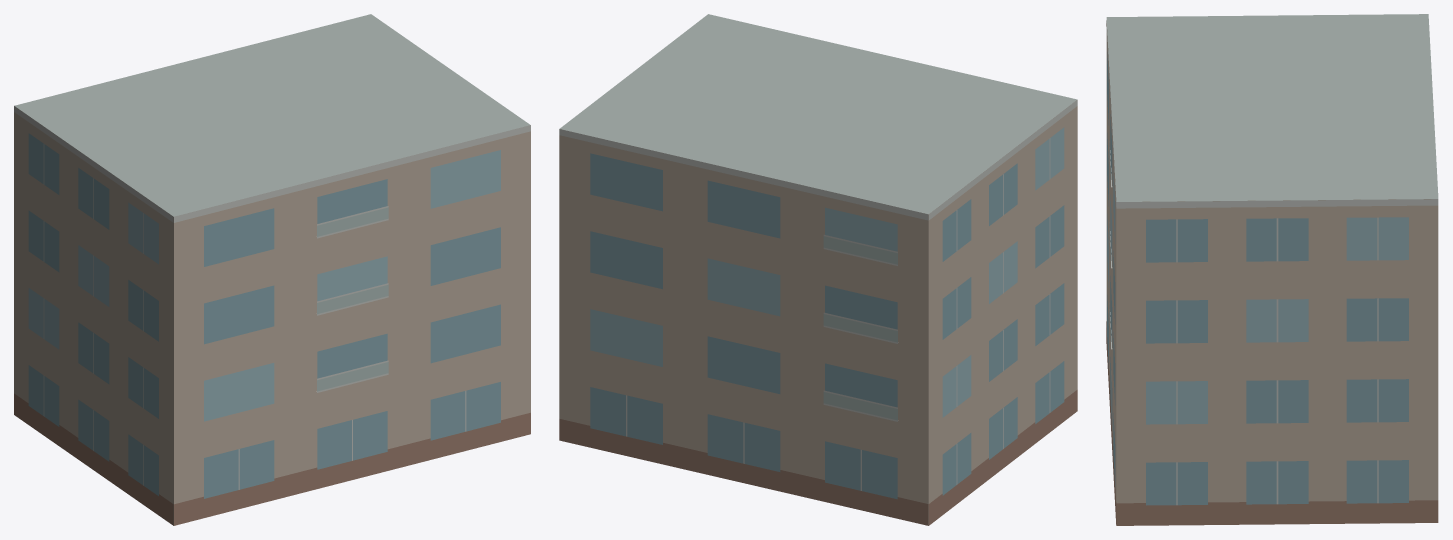
File: survey-upis-32916717.glb
3 views of the same model, side by side, from view 1: azimuth 30°, elevation 25°; view 2: azimuth 150°, elevation 25°; view 3: azimuth 270°, elevation 25° (orthographic). The views are drawn at different scales.
Parts seen in each view (by area): view 1: survey-upis-32916717.tmp; view 2: survey-upis-32916717.tmp; view 3: survey-upis-32916717.tmp.
Part boxes in pixels (x1,y1,x2,y2): survey-upis-32916717.tmp: [14, 14, 530, 525]; survey-upis-32916717.tmp: [559, 14, 1077, 525]; survey-upis-32916717.tmp: [1106, 14, 1438, 525].
Bounding box in the file's own units: 15.05 × 12.08 × 11.24.
